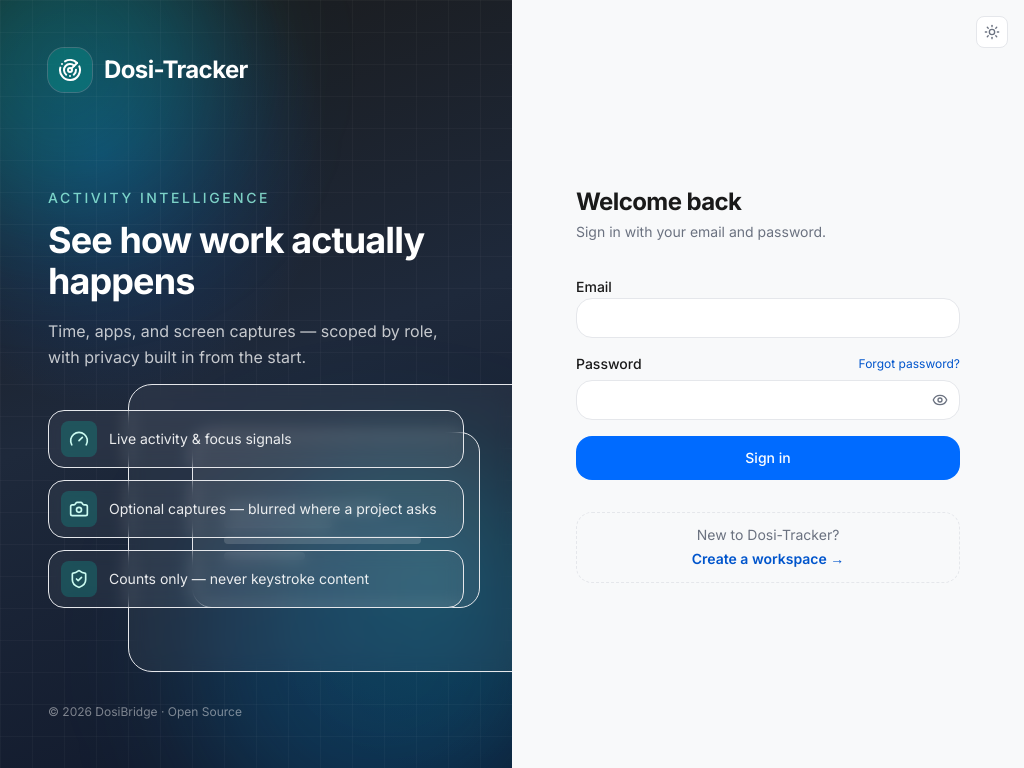
it: login page — every way a sign-in fails, told apart › a rate limit says how long to wait — not that the password is wrong — and holds the button until then
Type "ayesha@dosi.dev" into the field labelled "Email" at (768, 318), box [576,298,960,338]
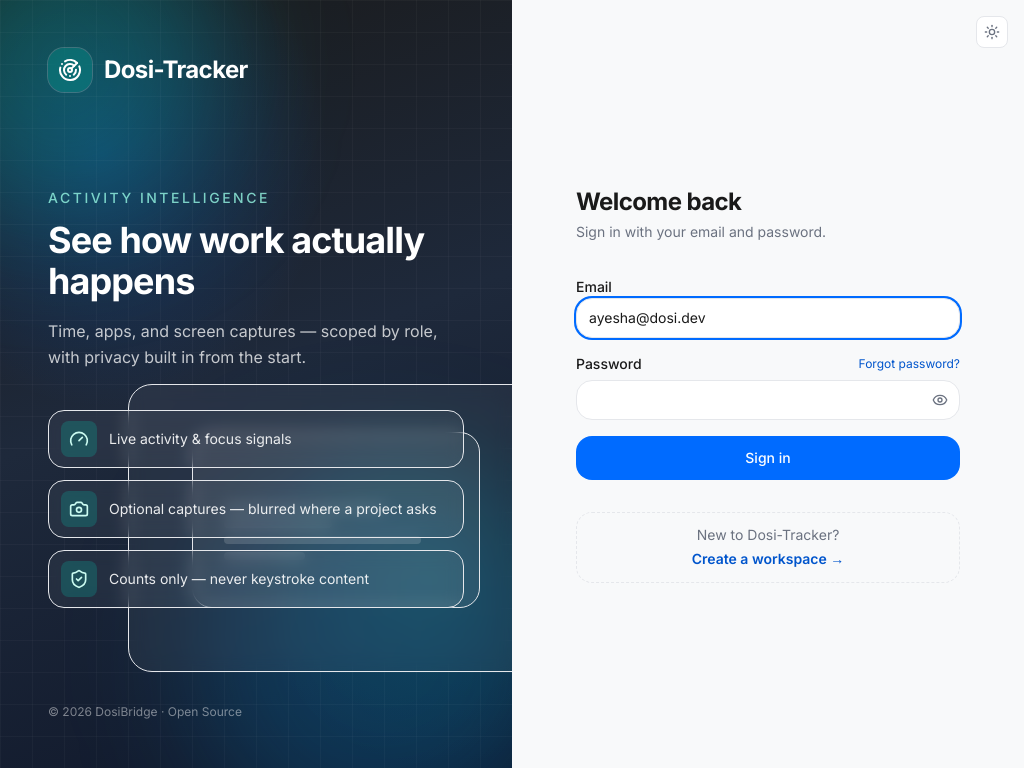
Type "hunter22" into the password field labelled "Password" at (768, 400), box [576,380,960,420]
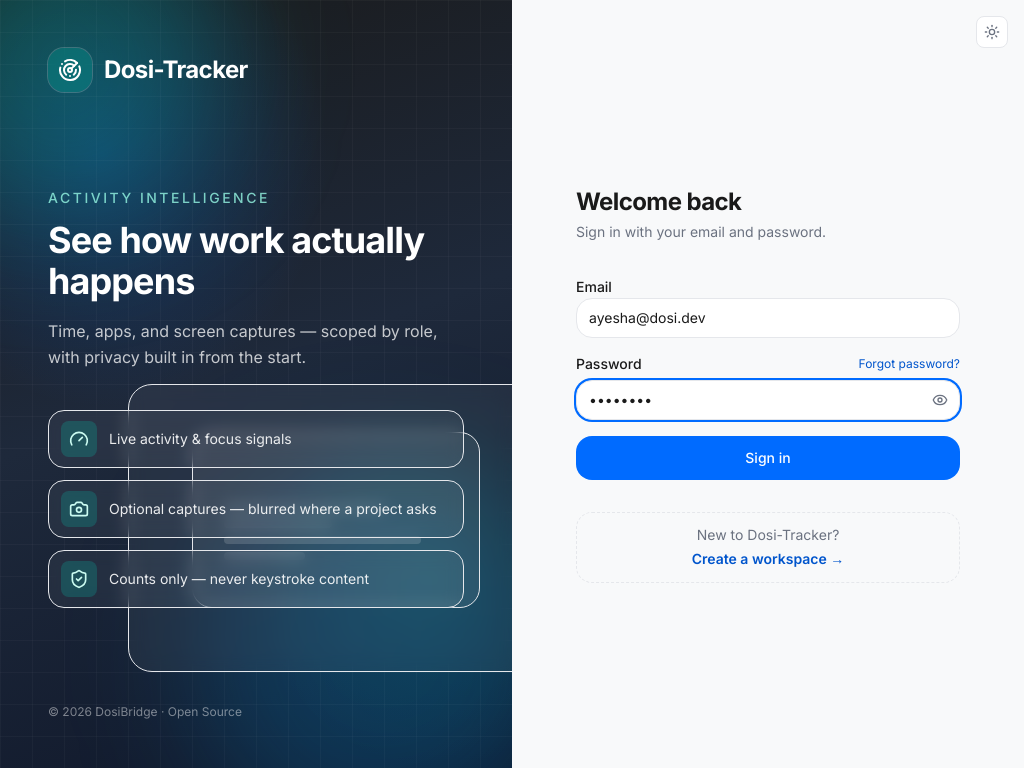
Click the button "Sign in" at (768, 458), box [576,436,960,480]
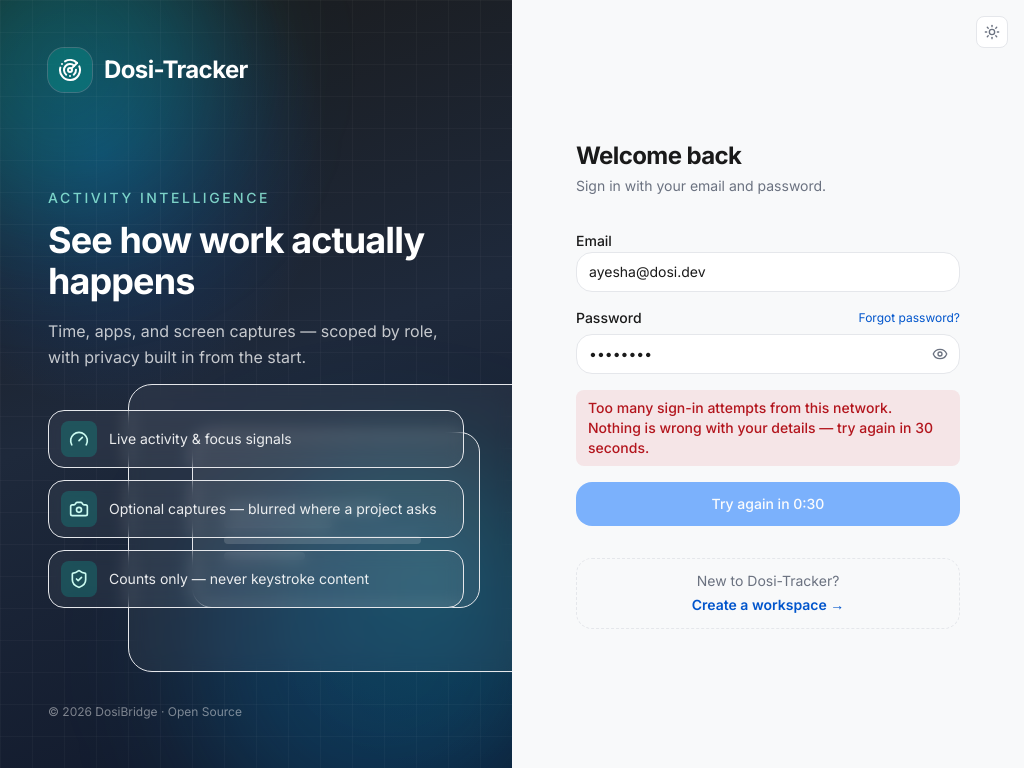
Expected: the message shows "Too many sign-in attempts", [588,398,933,456]
Expected: the message shows "try again in 30 seconds", [588,398,933,456]
Expected: the button "Try again in 0:30" is disabled, [576,482,960,526]
